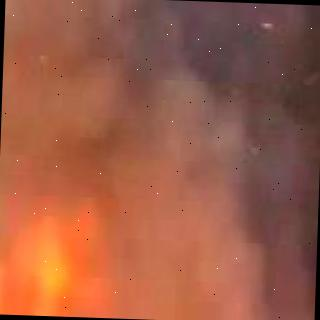fire: (0, 111, 130, 318)
